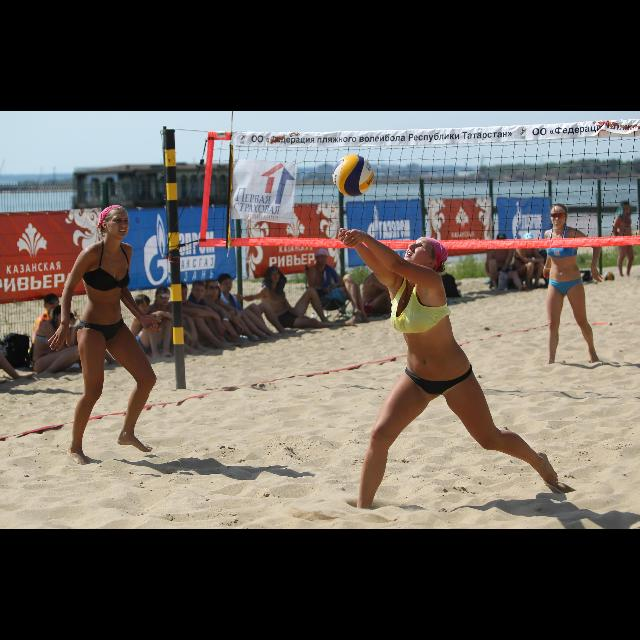head: (403, 236, 445, 270), (99, 206, 129, 240), (550, 204, 568, 228), (53, 306, 69, 328), (134, 294, 150, 316), (155, 287, 171, 307), (43, 295, 59, 313), (174, 282, 188, 302), (218, 274, 232, 292), (315, 249, 329, 267), (267, 268, 281, 284), (376, 260, 388, 272), (497, 235, 507, 248), (621, 200, 631, 212), (524, 236, 534, 246)
person: (337, 225, 561, 525), (48, 204, 160, 466), (541, 202, 605, 372), (229, 266, 357, 330), (210, 272, 296, 340), (164, 280, 236, 352), (302, 248, 370, 324), (143, 284, 211, 358), (32, 304, 86, 386), (358, 256, 419, 320), (122, 293, 174, 363), (32, 292, 78, 370), (484, 232, 528, 296), (512, 232, 546, 292), (611, 199, 635, 281)
